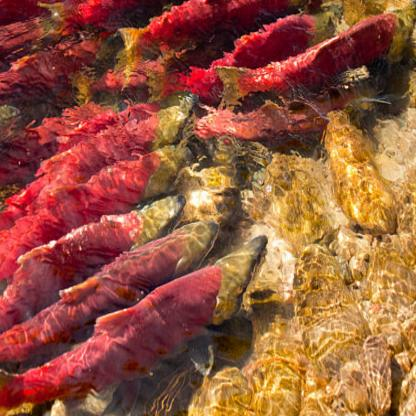sockeye-group: (0, 0, 229, 390), (0, 0, 384, 130)
